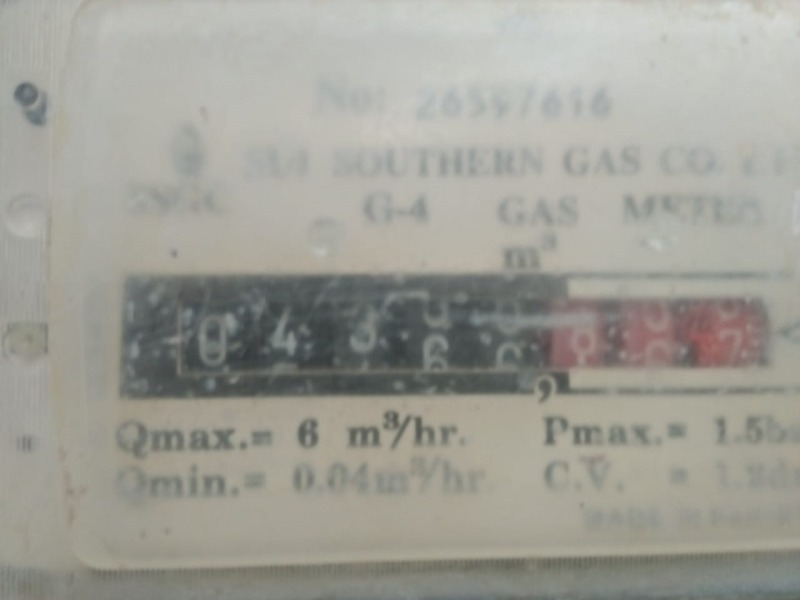ssgc: (130, 275, 782, 387)
